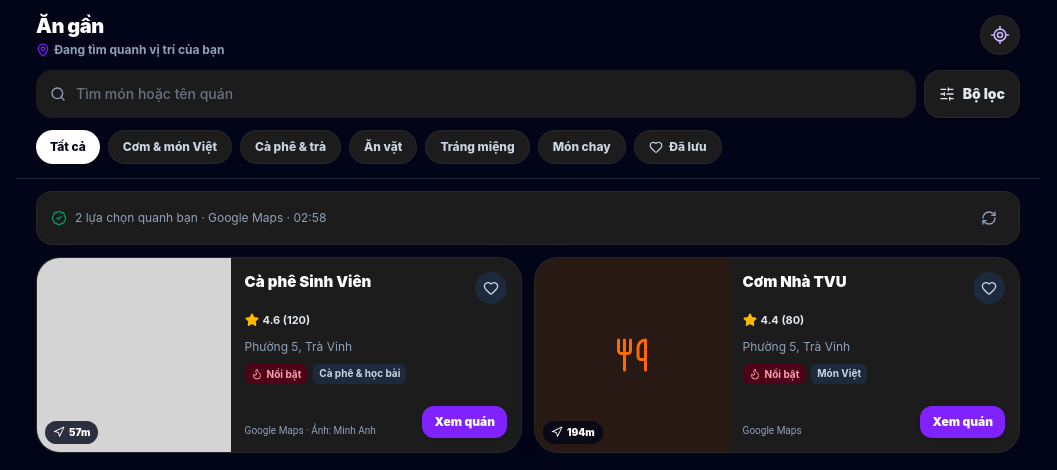
it: FoodNearby › filters provider results into Gen Z-friendly food groups
Expected: the heading "Cơm Nhà TVU" is shown, [743,272,847,291]
Click the button "Cà phê & trà" at point(290, 147), box [240,130,341,164]
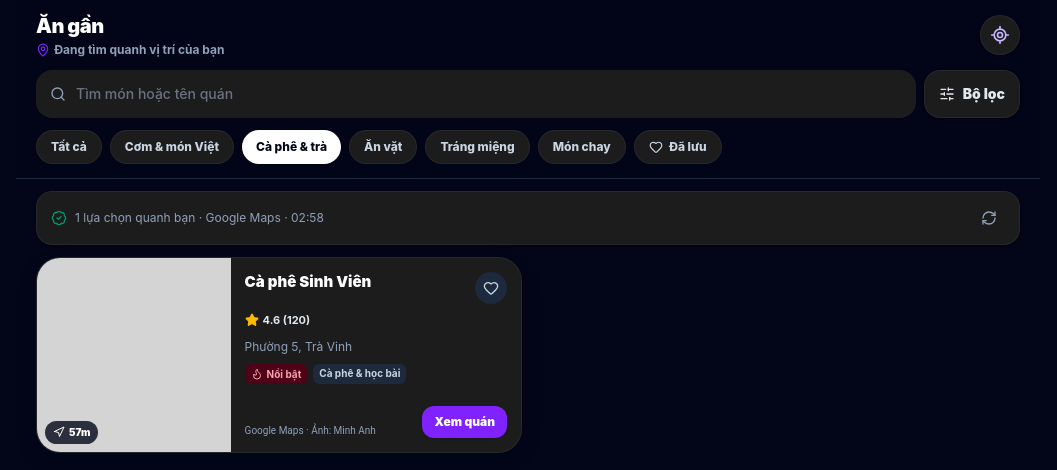
Expected: the heading "Cà phê Sinh Viên" is shown, [245,272,371,291]
Expected: the button "Cơm Nhà TVU" is gone
